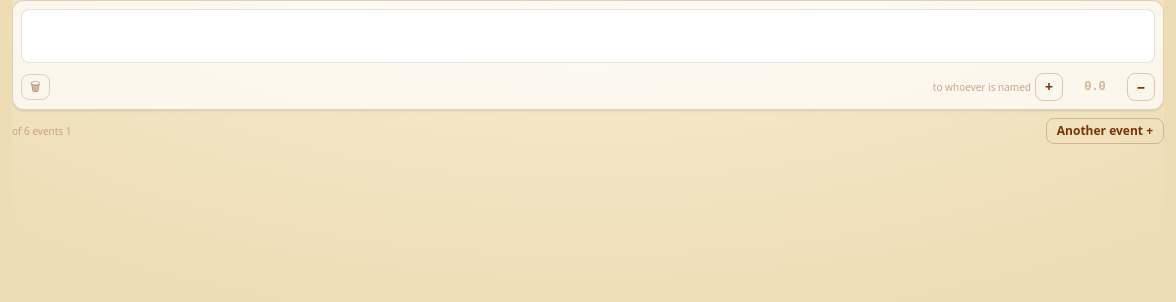
it: editing the night’s events › adds and removes events
In the text box: (588, 36) [21,9,1155,63], type "one"
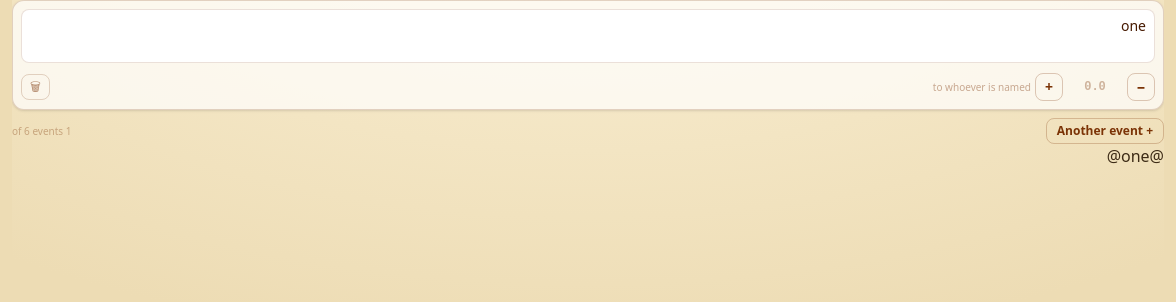
Click the button "+ Another event": (1105, 131) [1046,118,1164,144]
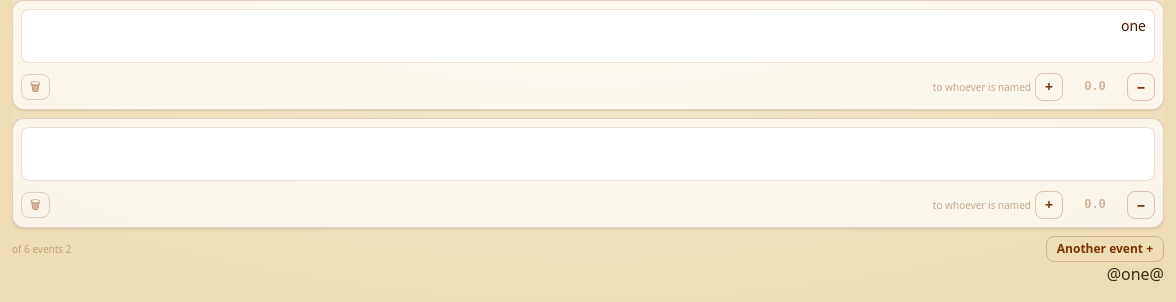
In the text box named "Event 2": (588, 154) [21,127,1155,181], type "two"
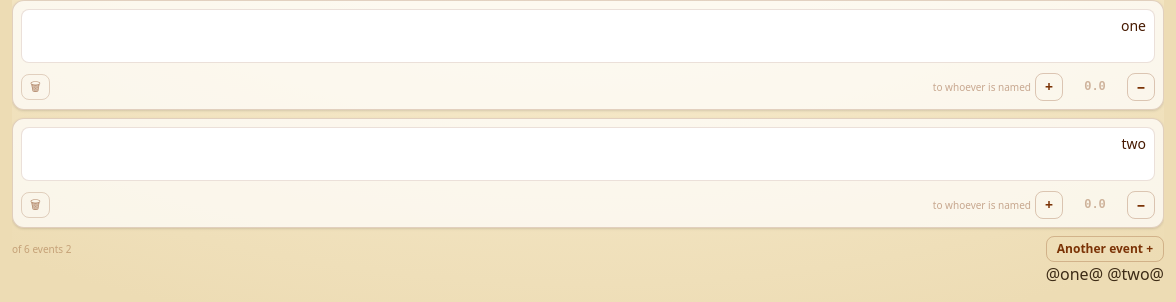
Now the text with test id "stored" reads "@one@ @two@", box [1046,263,1164,285]
Click the button named "Remove event 1": (35, 87) [21,74,50,100]
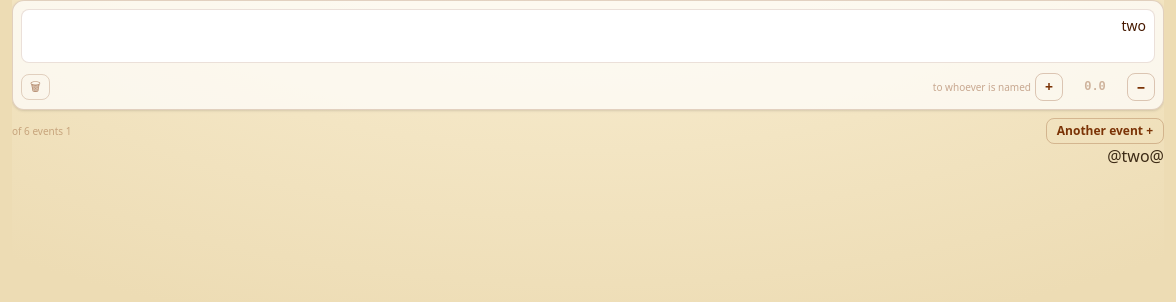
Now the text with test id "stored" reads "@two@", box [1107,145,1164,167]
